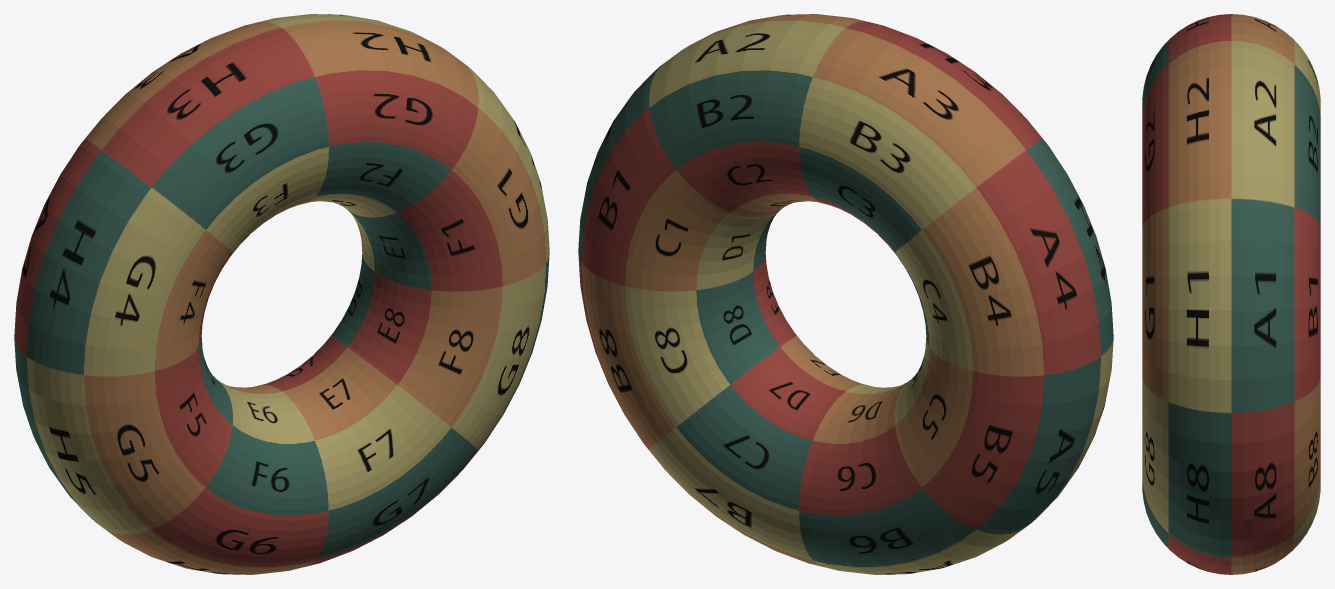
File: texture_torus_R6_r17.glb
3 renders of one model, left to right at view 1: azimuth 30°, elevation 25°; view 2: azimuth 150°, elevation 25°; view 3: azimuth 270°, elevation 25°, orthographic. The views are drawn at different scales.
Parts seen in each view (by area): view 1: world; view 2: world; view 3: world.
Boxes of the visible parts, box(x1,y1,x2,y2) form: world: box(14, 14, 549, 574); world: box(578, 14, 1113, 574); world: box(1142, 14, 1320, 574).
Bounding box in the file's own units: 20.53 × 20.49 × 6.52.
Materials: 1 (1 with a texture image).
